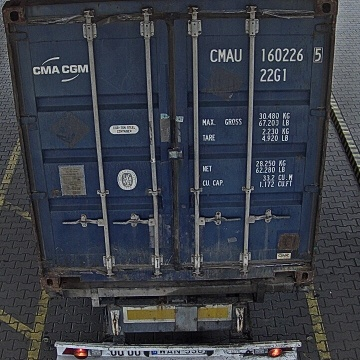serial_id: (210, 47, 323, 61)
